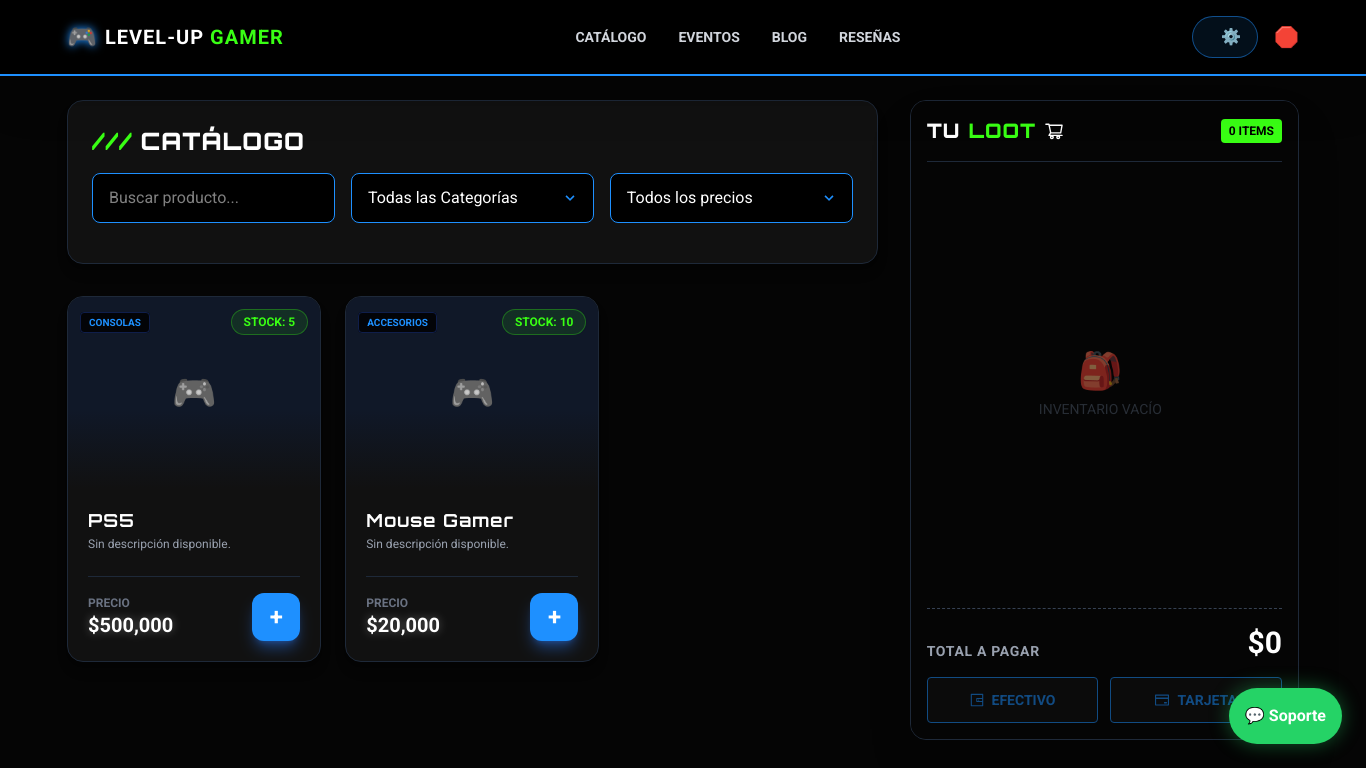
Test: DashboardPage › debería filtrar productos por búsqueda
The width and height of the screenshot is (1366, 768).
Check: the heading "PS5" is shown, box [88,509,135,531]
Type "Mouse" into the field with placeholder "Buscar producto..." at (213, 198), box [92,173,335,223]
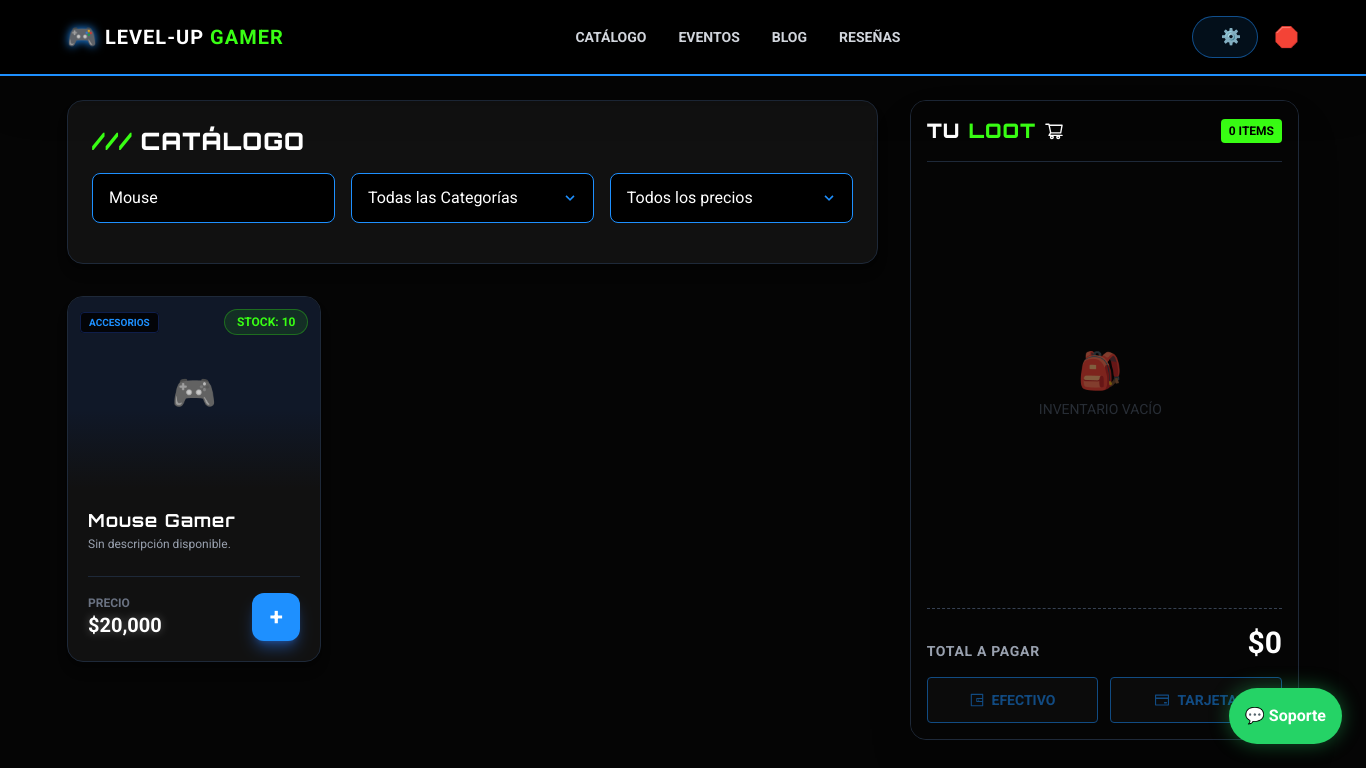
Check: the heading "Mouse Gamer" is shown, box [88,509,236,531]
Check: the heading "PS5" is gone
